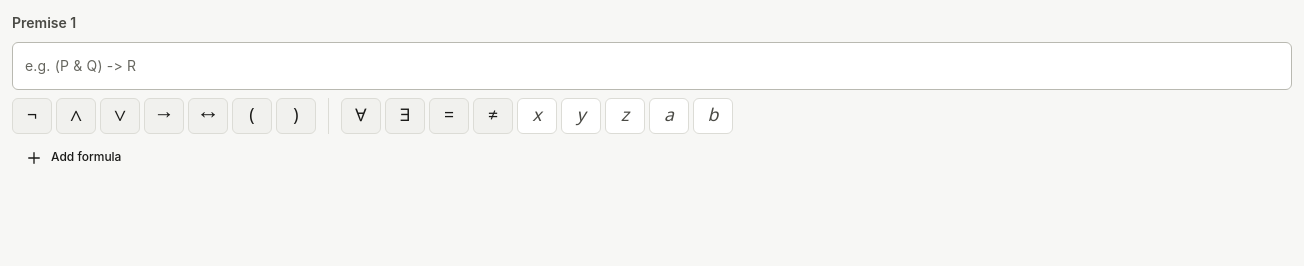
Test: pasting an argument with ∴ routes the conclusion
This screenshot has width=1304, height=266.
Click the field labelled "Premise 1" at (652, 66), box [13,43,1291,89]
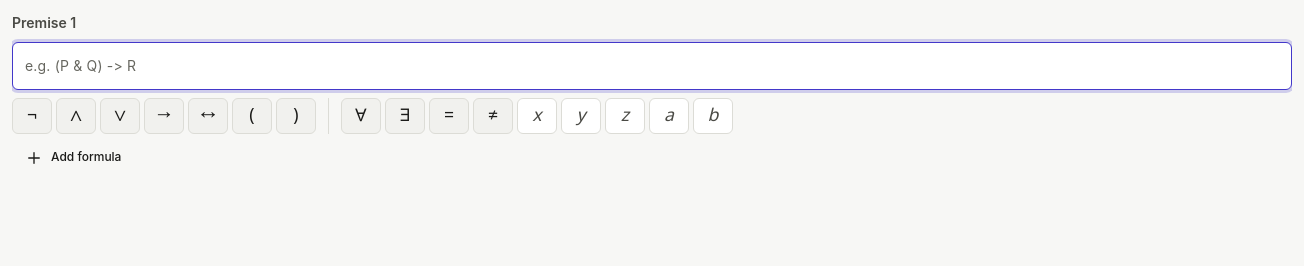
Type keys "P → Q, P ∴ Q"
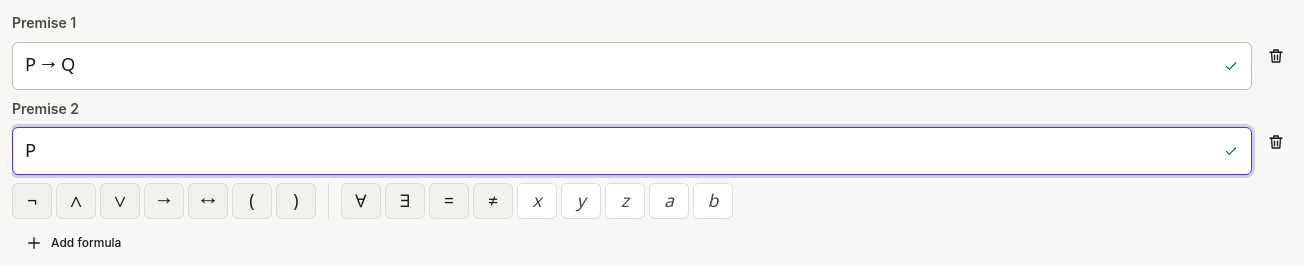
Result: the field labelled "Premise 1" holds "P → Q" at [13,43,1223,89]
Result: the field labelled "Premise 2" holds "P" at [13,128,1223,174]
